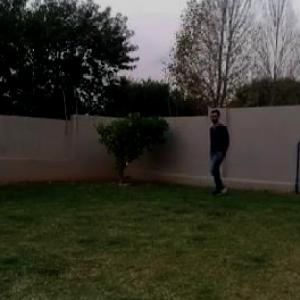follow: (206, 107, 228, 199)
